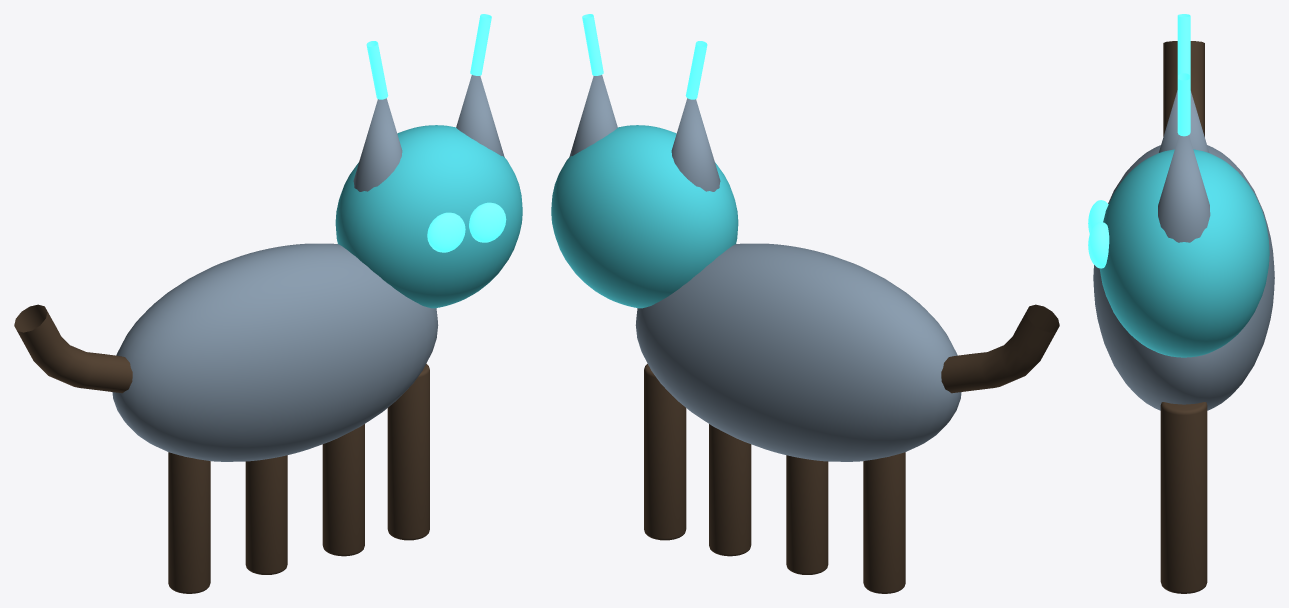
The model's file is beast_v6.glb.
3 views of the same model, side by side, from view 1: azimuth 30°, elevation 25°; view 2: azimuth 150°, elevation 25°; view 3: azimuth 270°, elevation 25° (orthographic). The views are drawn at different scales.
Parts seen in each view (by area): view 1: LYNX_BODY_PRIMARY, LYNX_HEAD_ACCENT, LYNX_LEG_SECONDARY.003, LYNX_LEG_SECONDARY, LYNX_LEG_SECONDARY.002, LYNX_TAIL_SECONDARY, LYNX_LEG_SECONDARY.001, LYNX_EAR_PRIMARY, LYNX_EAR_PRIMARY.001, EYE_EMISSIVE, EYE_EMISSIVE.001, LYNX_EAR_TUFT_EMISSIVE.001 (+1 smaller); view 2: LYNX_BODY_PRIMARY, LYNX_HEAD_ACCENT, LYNX_LEG_SECONDARY.003, LYNX_LEG_SECONDARY, LYNX_LEG_SECONDARY.002, LYNX_TAIL_SECONDARY, LYNX_LEG_SECONDARY.001, LYNX_EAR_PRIMARY, LYNX_EAR_PRIMARY.001, LYNX_EAR_TUFT_EMISSIVE.001, LYNX_EAR_TUFT_EMISSIVE; view 3: LYNX_HEAD_ACCENT, LYNX_BODY_PRIMARY, LYNX_LEG_SECONDARY.003, LYNX_EAR_PRIMARY.001, LYNX_TAIL_SECONDARY, LYNX_EAR_PRIMARY, LYNX_EAR_TUFT_EMISSIVE.001, LYNX_EAR_TUFT_EMISSIVE, EYE_EMISSIVE.001, EYE_EMISSIVE.
Boxes of the visible parts, x1,y1,x2,y2 form: LYNX_BODY_PRIMARY: (112, 243, 438, 461); LYNX_HEAD_ACCENT: (335, 125, 522, 308); LYNX_LEG_SECONDARY.003: (387, 364, 429, 540); LYNX_LEG_SECONDARY: (168, 452, 210, 593); LYNX_LEG_SECONDARY.002: (322, 424, 364, 556); LYNX_TAIL_SECONDARY: (14, 304, 132, 393); LYNX_LEG_SECONDARY.001: (245, 455, 287, 574); LYNX_EAR_PRIMARY: (353, 98, 402, 191); LYNX_EAR_PRIMARY.001: (456, 75, 504, 157); EYE_EMISSIVE: (427, 212, 465, 252); EYE_EMISSIVE.001: (469, 202, 506, 242); LYNX_EAR_TUFT_EMISSIVE.001: (470, 14, 491, 75); LYNX_BODY_PRIMARY: (635, 243, 961, 461); LYNX_HEAD_ACCENT: (551, 125, 738, 308); LYNX_LEG_SECONDARY.003: (644, 364, 686, 540); LYNX_LEG_SECONDARY: (863, 452, 905, 593); LYNX_LEG_SECONDARY.002: (709, 424, 751, 556); LYNX_TAIL_SECONDARY: (941, 304, 1059, 393); LYNX_LEG_SECONDARY.001: (786, 455, 828, 574); LYNX_EAR_PRIMARY: (671, 98, 720, 191); LYNX_EAR_PRIMARY.001: (569, 75, 617, 157); LYNX_EAR_TUFT_EMISSIVE.001: (582, 14, 603, 75); LYNX_EAR_TUFT_EMISSIVE: (685, 41, 707, 99); LYNX_HEAD_ACCENT: (1099, 149, 1269, 357); LYNX_BODY_PRIMARY: (1093, 145, 1274, 410); LYNX_LEG_SECONDARY.003: (1160, 402, 1207, 593); LYNX_EAR_PRIMARY.001: (1158, 135, 1210, 242); LYNX_TAIL_SECONDARY: (1163, 41, 1204, 136); LYNX_EAR_PRIMARY: (1159, 90, 1209, 152); LYNX_EAR_TUFT_EMISSIVE.001: (1177, 73, 1190, 136); LYNX_EAR_TUFT_EMISSIVE: (1177, 14, 1190, 76); EYE_EMISSIVE.001: (1088, 222, 1109, 268); EYE_EMISSIVE: (1088, 200, 1108, 233).
Bounding box in the file's own units: 2.45 × 2.34 × 0.72.
